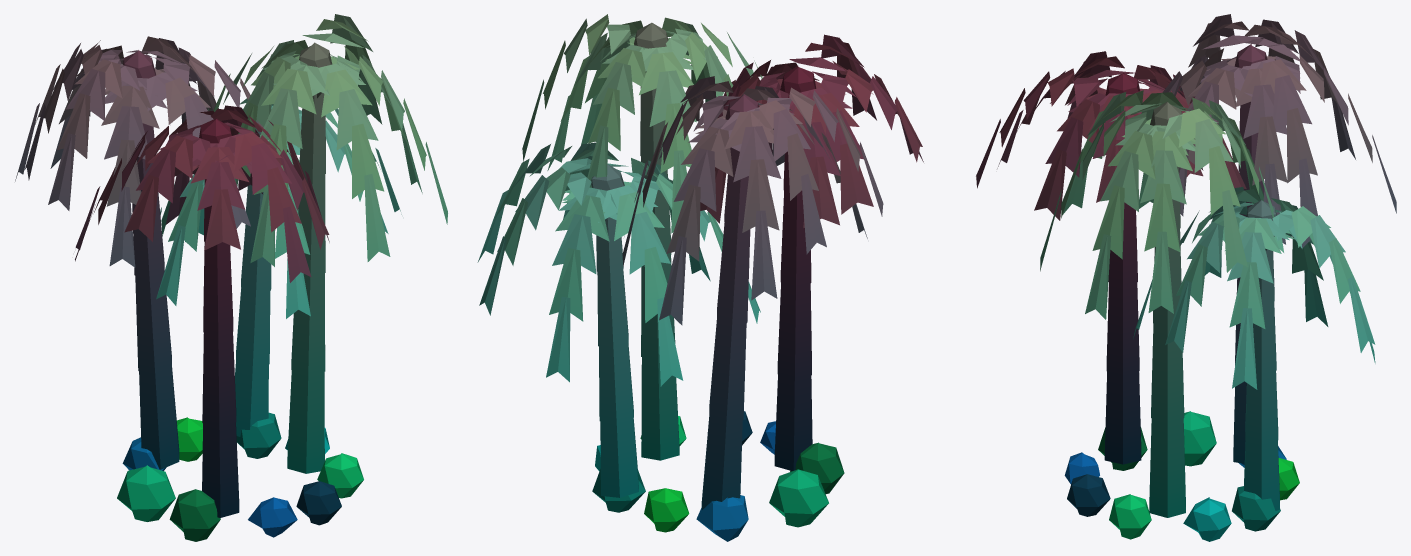
File: palm_02.glb
The picture shows the model from 3 angles, left to right: view 1: azimuth 30°, elevation 25°; view 2: azimuth 150°, elevation 25°; view 3: azimuth 270°, elevation 25°; orthographic projection. The views are drawn at different scales.
Visible parts, largest first — view 1: palm_02; view 2: palm_02; view 3: palm_02.
Boxes of the visible parts, x1,y1,x2,y2 form: palm_02: (15,14,447,541); palm_02: (477,14,923,541); palm_02: (976,14,1396,541).
Size of the model in its own units: 0.9361 by 1.08 by 0.94.
